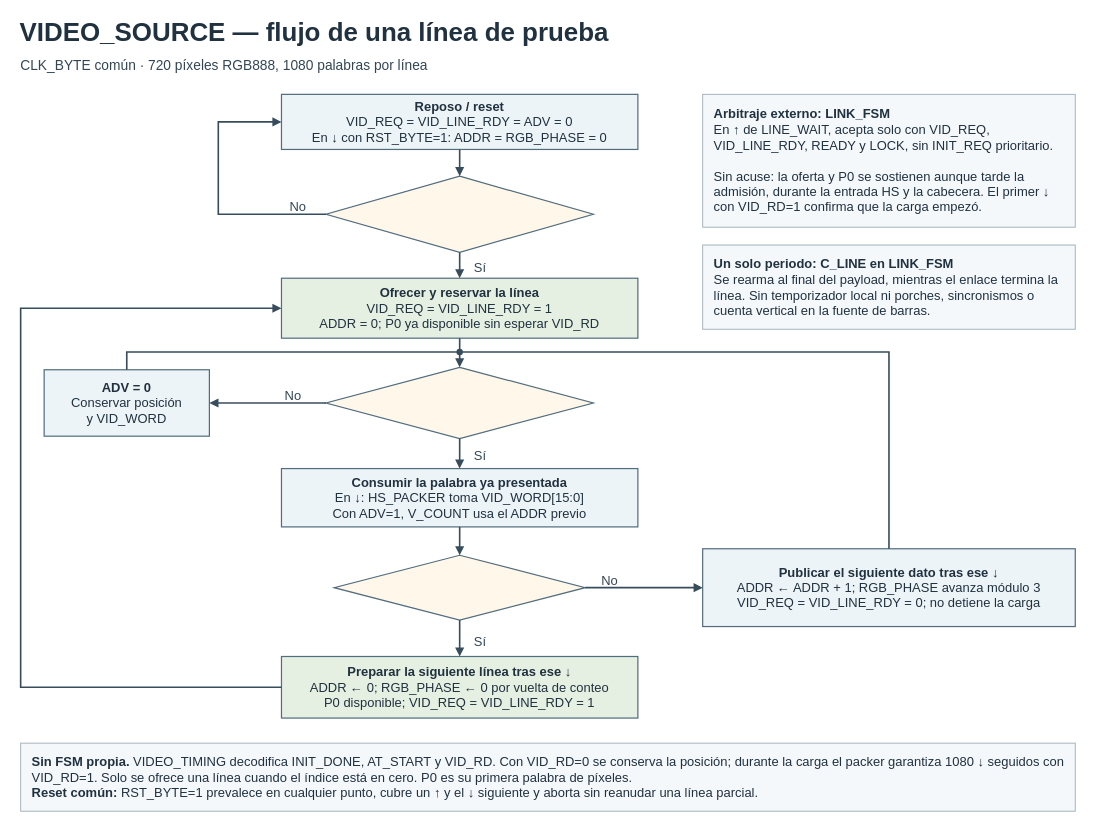
This 1115x825 diagram has some shape labels left out. Here are the shapes that lost their labels. From the top down, the centre of each, then its label:
point (459, 214): ¿INIT_DONE = 1 y RST_BYTE = 0?
point (459, 402): ¿VID_RD = 1 antes del ↓?
point (459, 587): ¿ADDR = 1079 antes de ese ↓?
